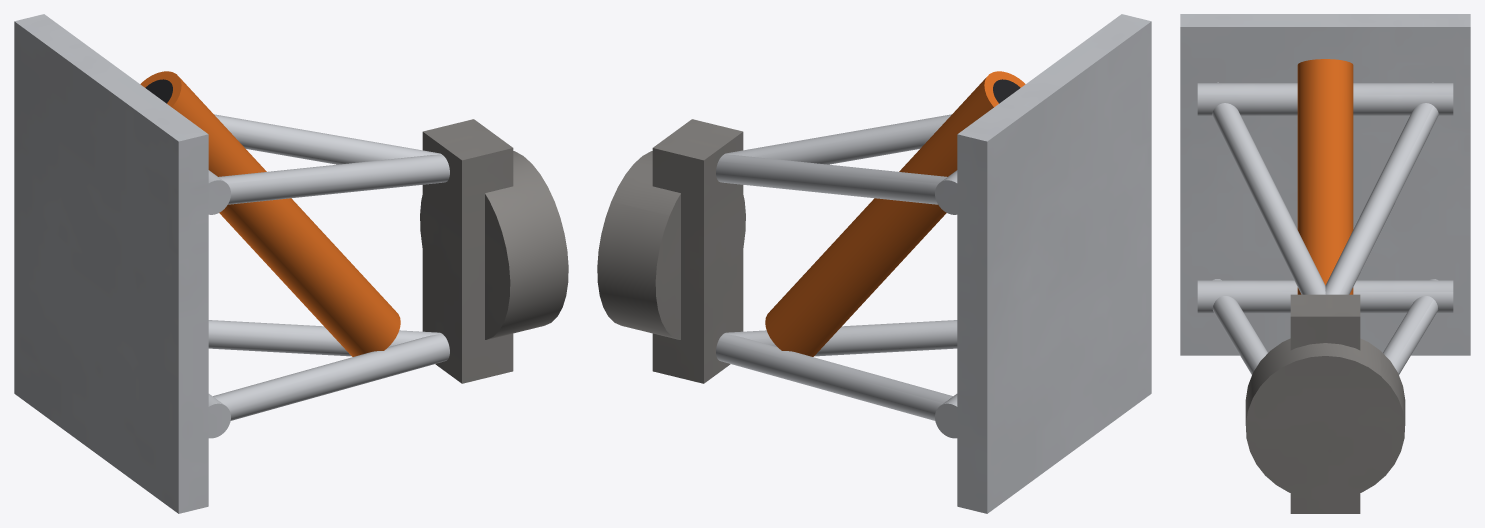
The model's file is rover17_suspension_arm_s_susp_down.glb.
The picture shows the model from 3 angles, left to right: view 1: azimuth 30°, elevation 25°; view 2: azimuth 150°, elevation 25°; view 3: azimuth 270°, elevation 25°; orthographic projection. The views are drawn at different scales.
Parts seen in each view (by area): view 1: mount_plate, arm_upright, spring, arm_upper, arm_lower; view 2: mount_plate, arm_upright, spring, arm_upper, arm_lower; view 3: mount_plate, arm_upright, arm_upper, spring, arm_lower.
Boxes of the visible parts, bbox=[...] form: mount_plate: bbox=[14, 14, 208, 513]; arm_upright: bbox=[420, 119, 568, 383]; spring: bbox=[140, 71, 400, 356]; arm_upper: bbox=[208, 114, 449, 214]; arm_lower: bbox=[208, 320, 449, 438]; mount_plate: bbox=[957, 14, 1151, 513]; arm_upright: bbox=[597, 119, 745, 383]; spring: bbox=[765, 71, 1025, 356]; arm_upper: bbox=[716, 114, 957, 214]; arm_lower: bbox=[716, 320, 957, 438]; mount_plate: bbox=[1180, 14, 1470, 355]; arm_upright: bbox=[1245, 294, 1405, 513]; arm_upper: bbox=[1197, 82, 1453, 294]; spring: bbox=[1297, 59, 1353, 294]; arm_lower: bbox=[1197, 279, 1453, 374].
Bounding box in the file's own units: 0.3 × 0.25 × 0.2.
Materials: 4 (2 with a texture image).
